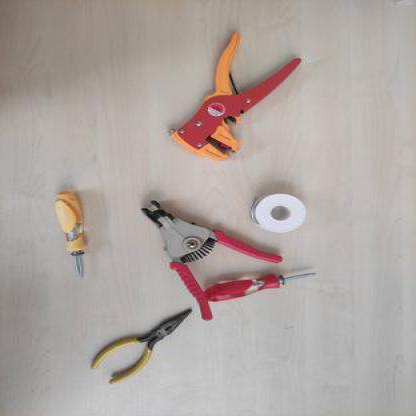Screwdriver: (202, 268, 320, 303), (50, 185, 90, 280)
